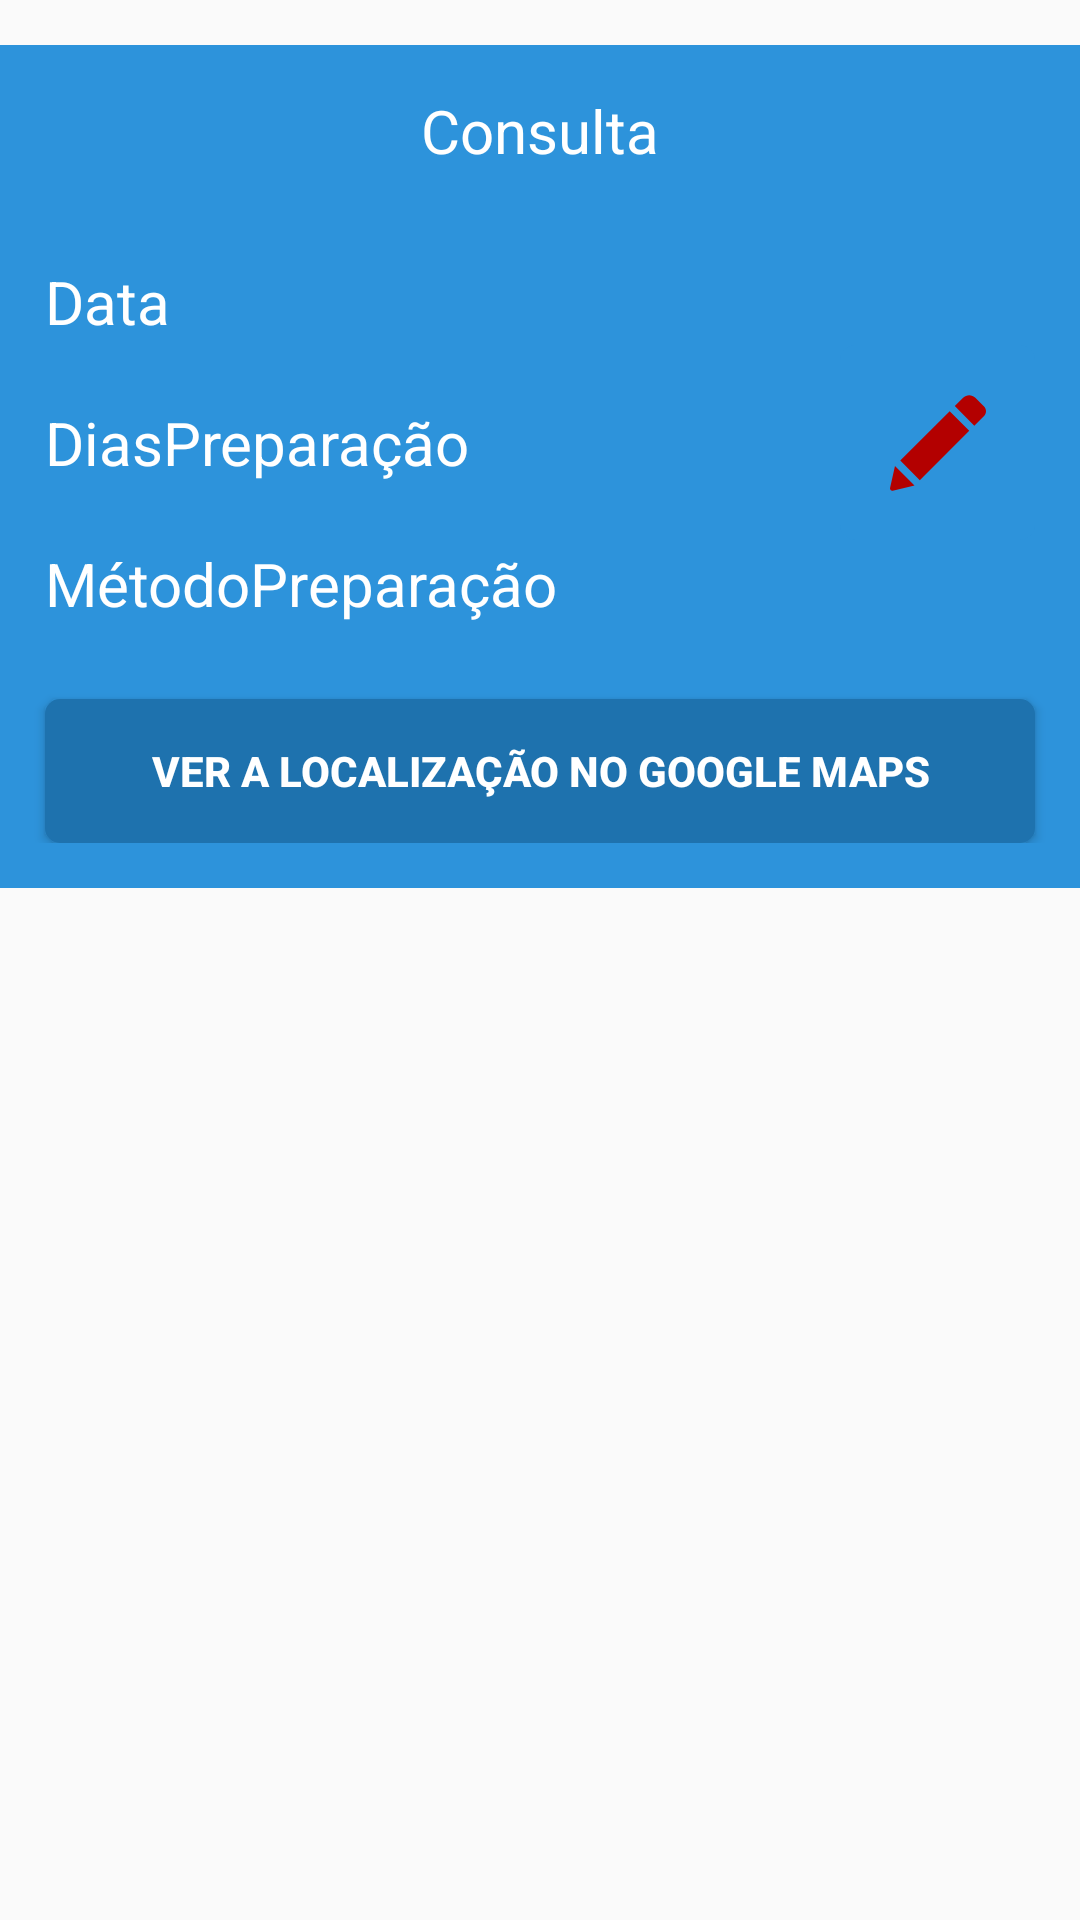

Icons on this 1080*1920 Android screen, each with its box as (x1,y1,x2,y2):
edit: (890,395,986,491)
